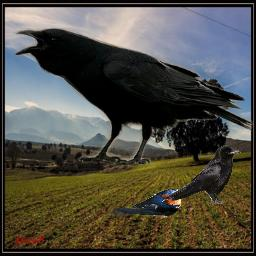Crow: (15, 28, 254, 168), (168, 145, 241, 204)
Swallow: (107, 188, 182, 218)
